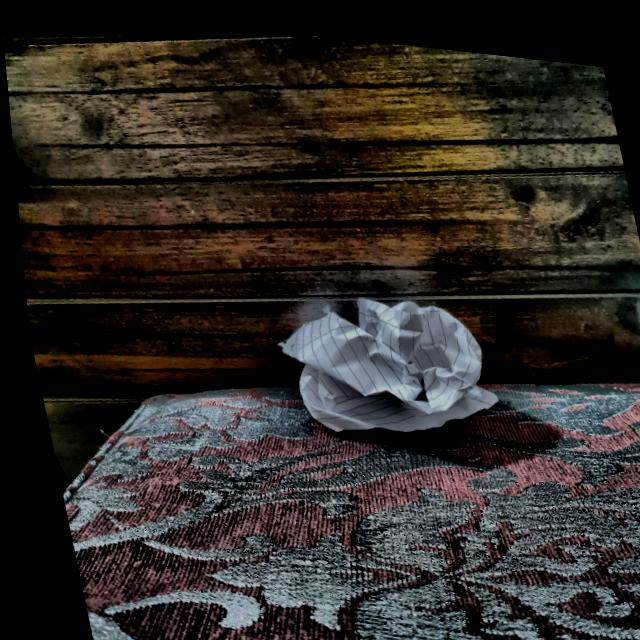Paper: (262, 272, 508, 448)
